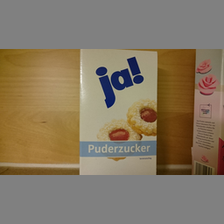sugar: (78, 49, 158, 174)
